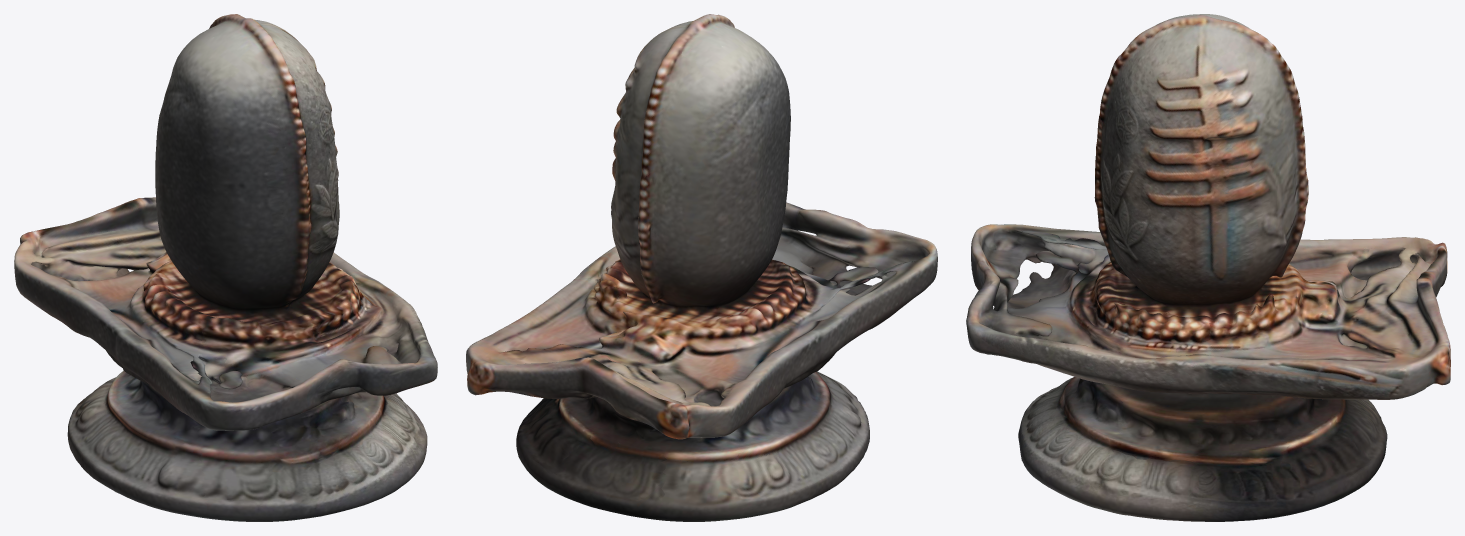
Rendered from shiva_lingam_3d.glb.
The picture shows the model from 3 angles, left to right: view 1: azimuth 30°, elevation 25°; view 2: azimuth 150°, elevation 25°; view 3: azimuth 270°, elevation 25°; orthographic projection. The views are drawn at different scales.
Visible parts, largest first — view 1: tripo_node_2d8598b6-e5d6-4d02-be8d-bcd07c5190ed; view 2: tripo_node_2d8598b6-e5d6-4d02-be8d-bcd07c5190ed; view 3: tripo_node_2d8598b6-e5d6-4d02-be8d-bcd07c5190ed.
Part boxes in pixels (<box>): tripo_node_2d8598b6-e5d6-4d02-be8d-bcd07c5190ed: <box>14,14,437,521</box>; tripo_node_2d8598b6-e5d6-4d02-be8d-bcd07c5190ed: <box>466,14,937,521</box>; tripo_node_2d8598b6-e5d6-4d02-be8d-bcd07c5190ed: <box>966,14,1450,521</box>.
Size of the model in its own units: 0.4944 by 0.7069 by 0.6757.
Materials: 1 (1 with a texture image).
